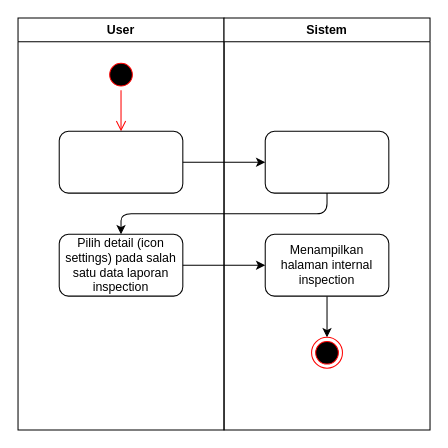
Some shapes in this 448 by 448 pixel diagram are drawn without their labels. Here are the shapes that lost their labels. From the top down, the centre of each, then its label:
At point (120, 161): "Pilih fitur laporan inspection".
At point (326, 161): "Menampilkan halaman laporan inspection".
